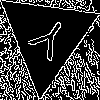Y: (21, 13, 72, 70)
